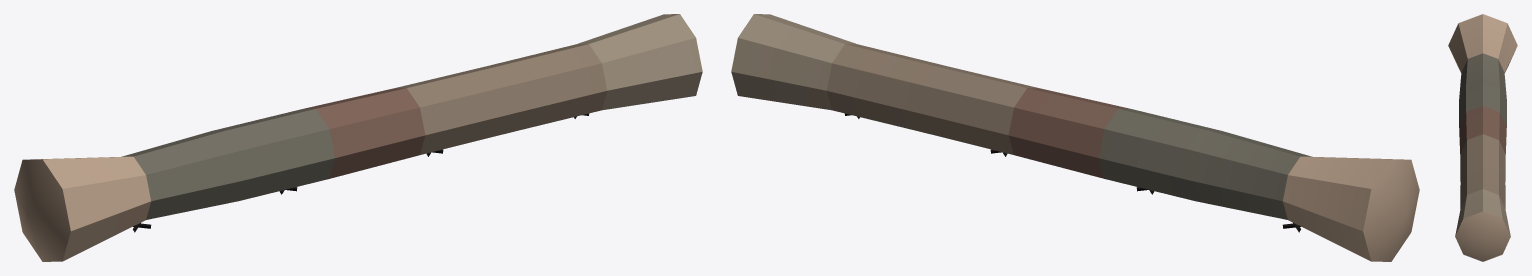
Rendered from stitchface_forearm.glb.
3 renders of one model, left to right at view 1: azimuth 30°, elevation 25°; view 2: azimuth 150°, elevation 25°; view 3: azimuth 270°, elevation 25°, orthographic. The views are drawn at different scales.
Parts seen in each view (by area): view 1: stitchface_forearm; view 2: stitchface_forearm; view 3: stitchface_forearm.
Boxes of the visible parts, box(x1,y1,x2,y2) form: stitchface_forearm: box(14, 14, 702, 261); stitchface_forearm: box(731, 14, 1419, 261); stitchface_forearm: box(1448, 14, 1517, 261).
Size of the model in its own units: 0.5729 by 0.0846 by 0.0846.
